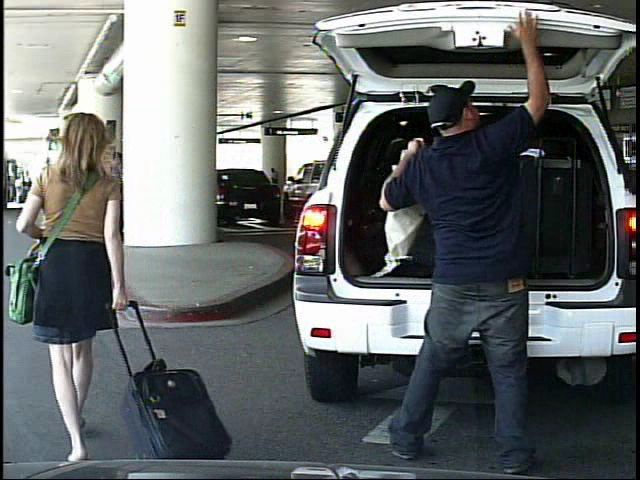person: (376, 9, 560, 480), (42, 102, 179, 445), (266, 166, 282, 203), (16, 173, 27, 204)
